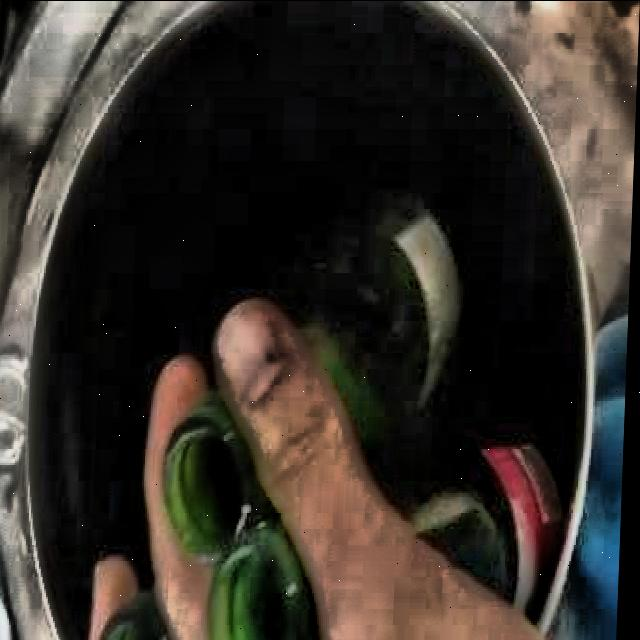glass: (297, 208, 464, 467), (166, 387, 327, 640), (415, 445, 569, 616)
